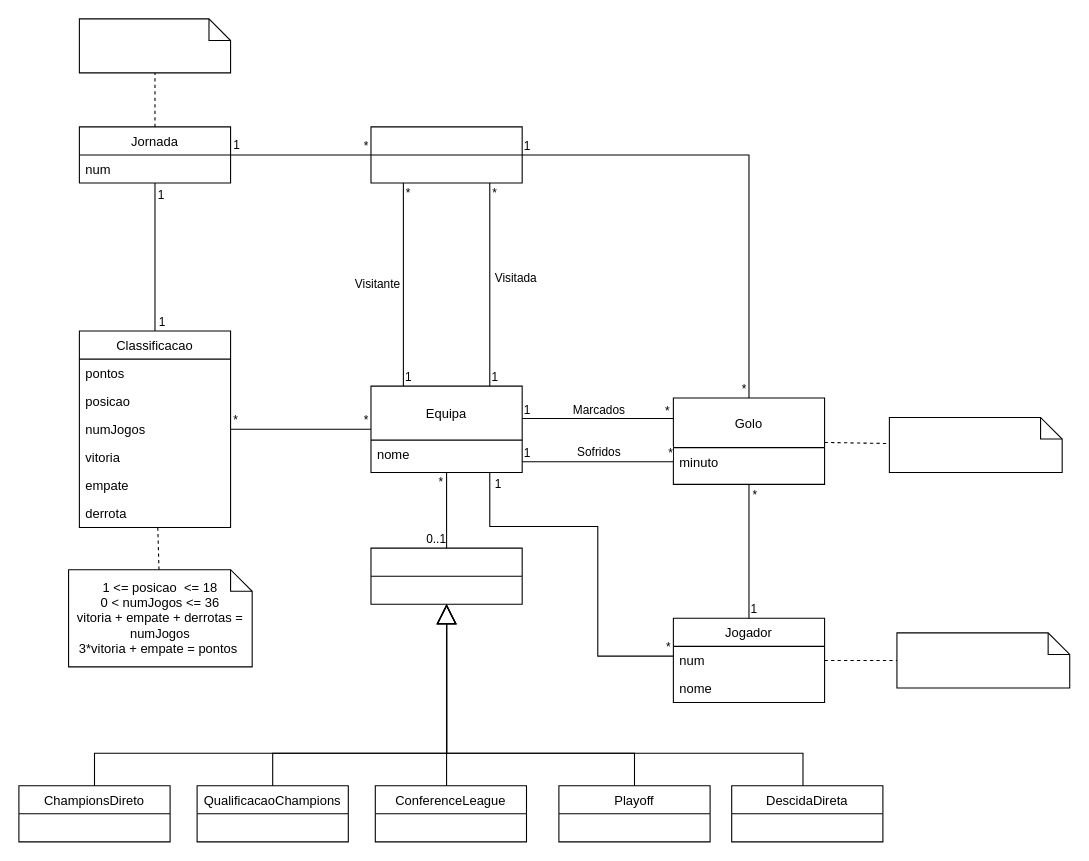
Image size: 1089x861. Some labels were removed from this diagram. The shapes that lost their labels are listed below. From the top down, each one's centre as x and y in pixels, then its label:
(154,45): 0 < num < 37
(446,154): Jogo
(975,444): minuto > 0
(446,575): Condicoes
(983,660): 0<num<100
